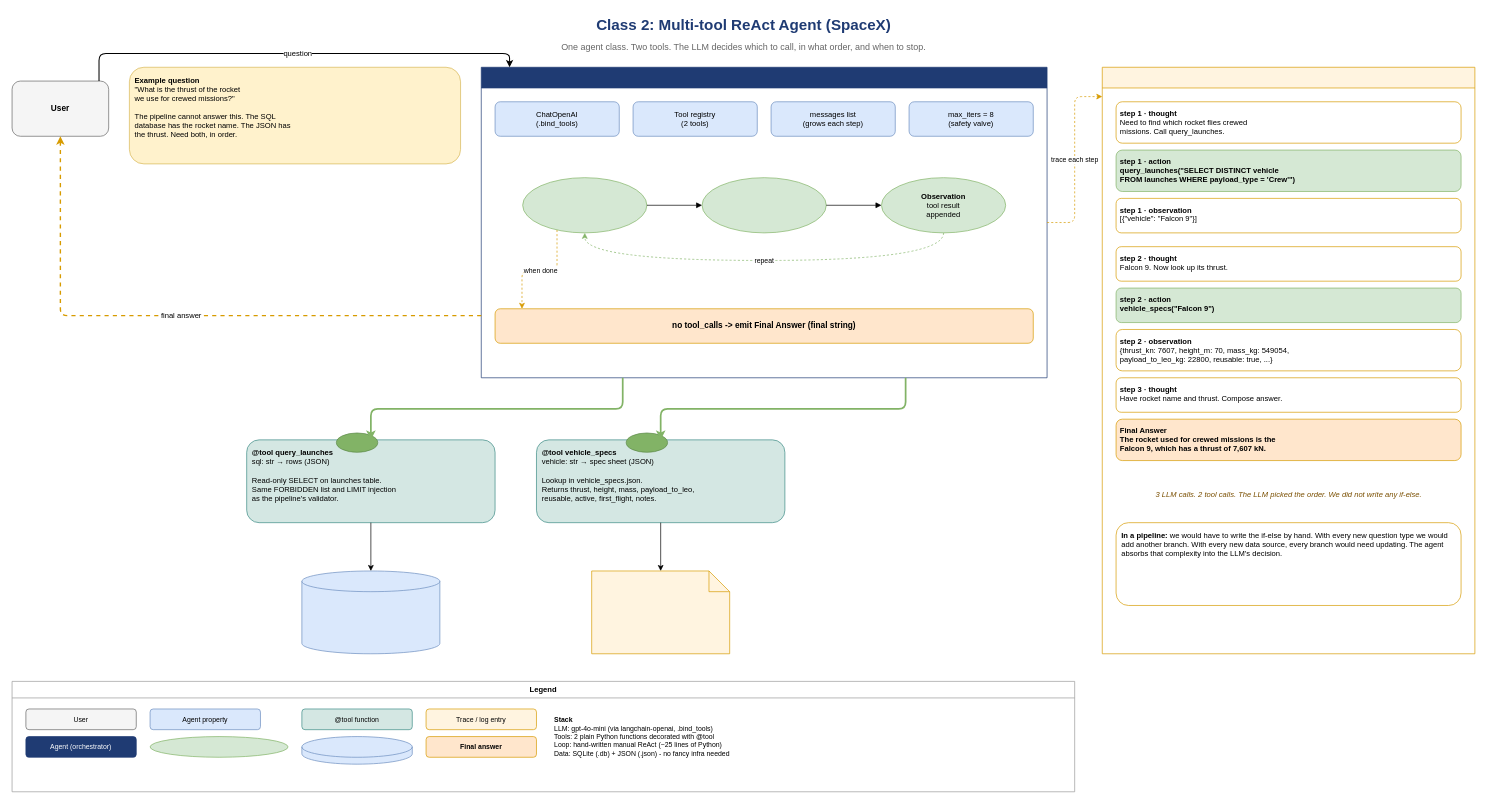
Image size: 1487x804. Some labels were removed from this diagram. The shapes that lost their labels are listed below. From the top down, each one's box as (x1, y1, x2, y2) in pixels, then its label:
(522, 177, 647, 233): Thought reason about next step
(701, 177, 826, 233): Action LLM emits tool_call
(481, 67, 1047, 378): Agent (one Python function with a loop)
(1102, 67, 1475, 654): Trace of the example question
(336, 432, 378, 452): step 1
(625, 432, 668, 452): step 2
(301, 570, 440, 654): spacex_launches.db SQLite launches table 18 rows
(591, 570, 730, 654): vehicle_specs.json file on disk keyed by vehicle name 4 rockets
(149, 736, 288, 757): ReAct step (Thought/Action/Obs)
(301, 736, 412, 764): Backing data store
